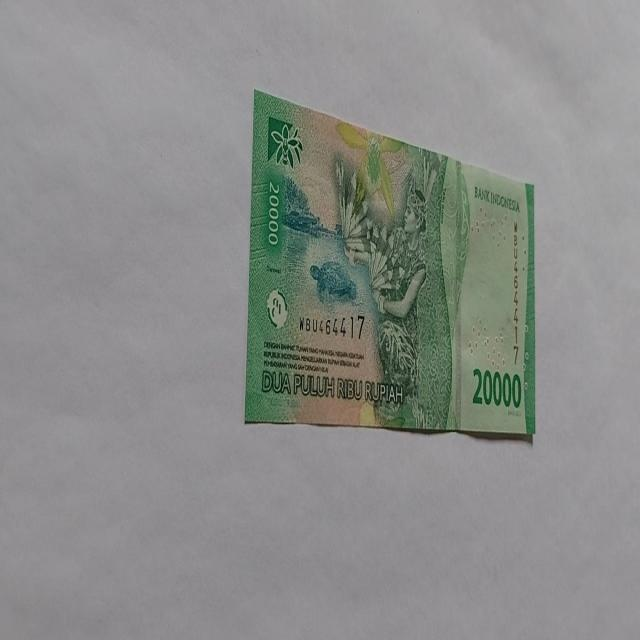dua puluh ribu rupiah: (244, 88, 536, 441)
